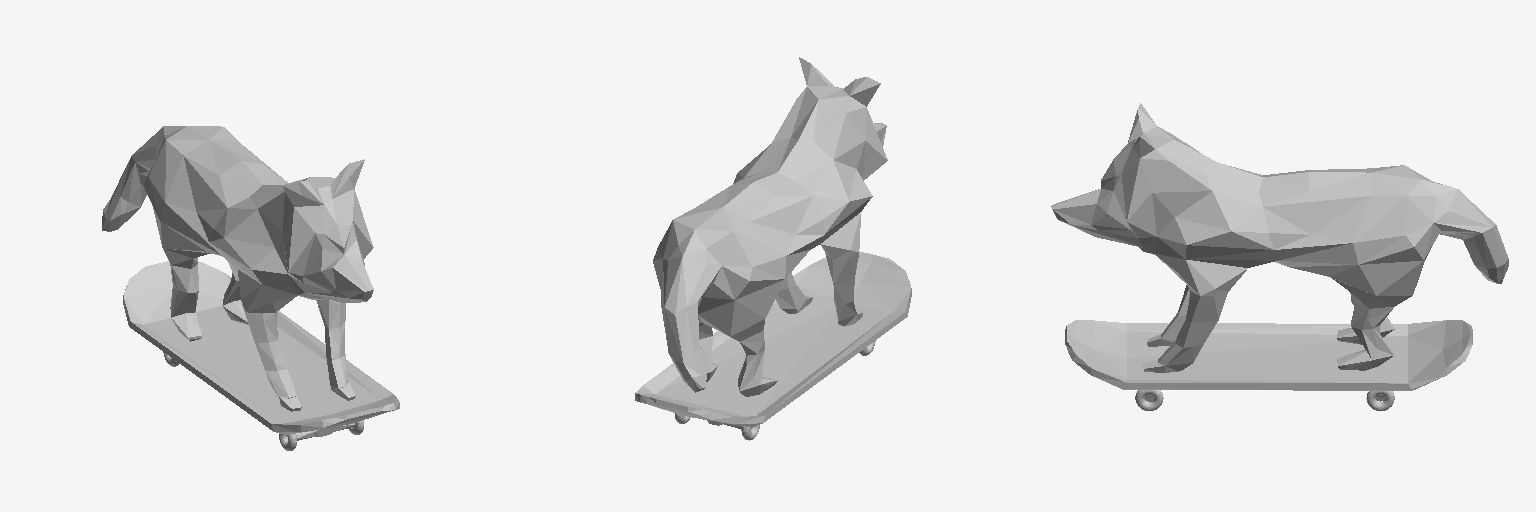
Rendered from Fuchs18.obj.
3 views of the same model, side by side, from view 1: azimuth 30°, elevation 25°; view 2: azimuth 150°, elevation 25°; view 3: azimuth 270°, elevation 25° (orthographic).
Bounding box in the file's own units: 3.58 × 7.74 × 11.6.